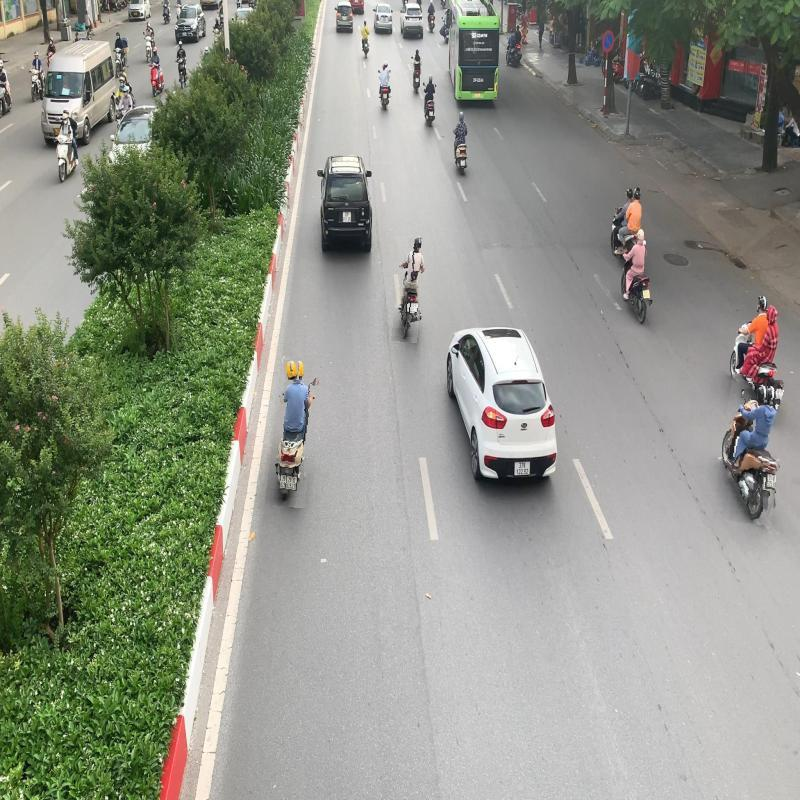helmet: (284, 360, 299, 380), (756, 382, 768, 403), (407, 235, 417, 248)
licenseplate: (766, 474, 778, 490), (286, 474, 298, 490), (409, 301, 418, 312)
motorcyclist: (717, 376, 786, 524), (269, 358, 318, 508), (394, 233, 427, 342)
